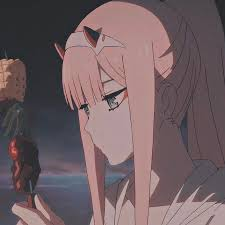zeroTwo: (50, 1, 225, 171)
